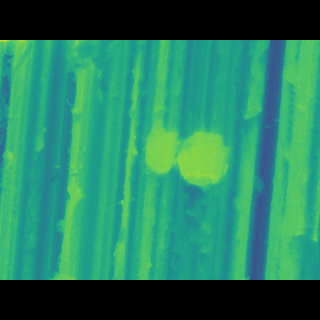Loch: (127, 115, 230, 181), (238, 69, 265, 130)
